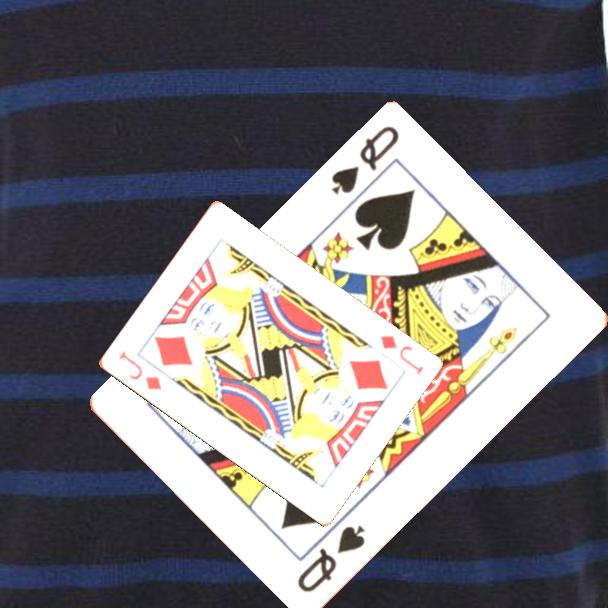d11: (115, 347, 164, 393), (376, 332, 426, 377)
s12: (327, 123, 403, 199), (293, 522, 369, 596)
